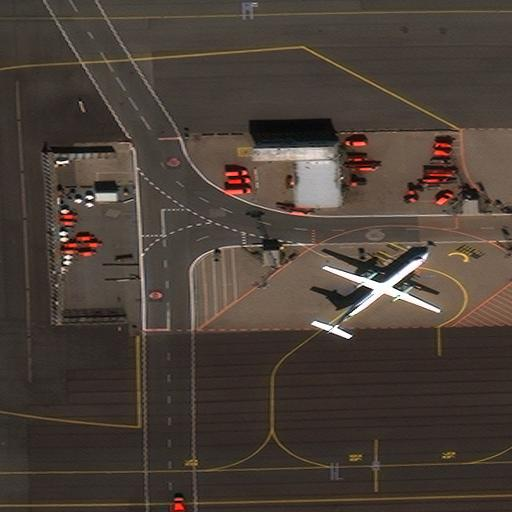Medium Civil Transport: (325, 252, 440, 333)
